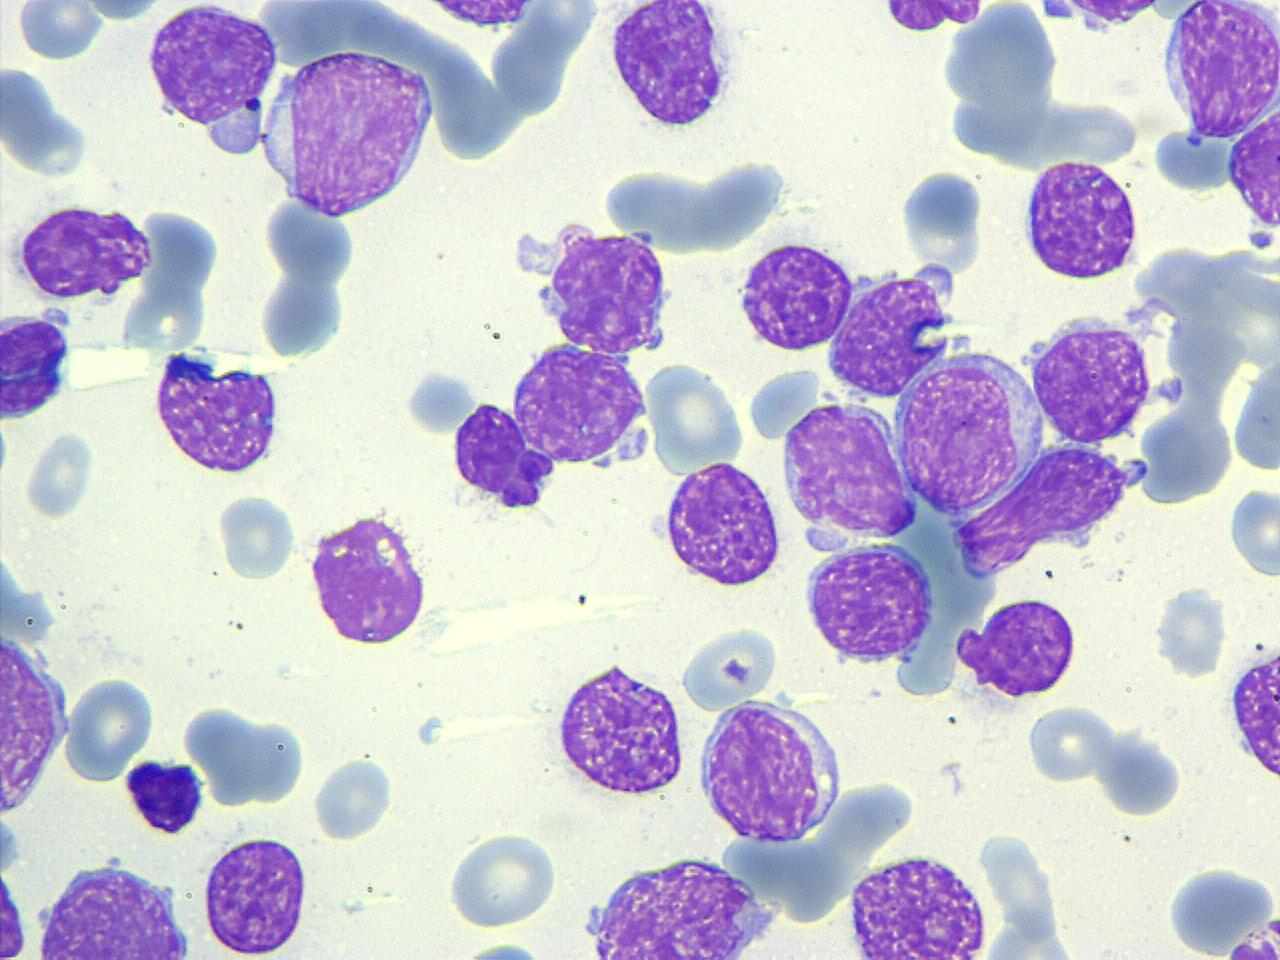Platelets: (442, 831, 562, 935), (898, 165, 986, 272), (256, 270, 349, 360), (1100, 724, 1184, 822), (215, 490, 301, 584), (22, 430, 99, 520), (12, 2, 106, 61), (398, 367, 476, 437), (1227, 480, 1280, 578), (0, 871, 31, 960), (459, 938, 546, 960), (0, 816, 21, 876), (414, 713, 446, 748), (1152, 375, 1186, 405), (1245, 225, 1277, 254), (1037, 1, 1079, 22), (582, 902, 606, 937), (0, 422, 14, 478)
RBC: (443, 828, 563, 932), (645, 357, 749, 474), (0, 61, 96, 182), (63, 672, 155, 782), (678, 620, 784, 712), (1099, 726, 1183, 818), (1022, 702, 1111, 785), (240, 715, 306, 806), (14, 0, 103, 62), (1227, 484, 1279, 579), (74, 0, 166, 24)
WBC: (209, 0, 624, 196), (257, 42, 438, 222), (510, 211, 676, 364), (892, 348, 1040, 516), (692, 693, 850, 848), (778, 396, 920, 553), (938, 0, 1068, 169), (581, 852, 783, 960), (143, 1, 282, 154), (823, 258, 961, 400), (552, 659, 688, 802), (509, 338, 657, 468), (147, 344, 286, 480), (600, 1, 740, 135), (1027, 308, 1159, 448), (304, 508, 434, 650), (800, 538, 938, 670), (1157, 0, 1280, 141), (27, 859, 195, 959), (660, 457, 786, 589), (842, 850, 993, 960), (1018, 154, 1143, 285), (7, 196, 154, 306), (0, 622, 74, 824), (200, 830, 314, 959), (954, 592, 1082, 706), (734, 237, 856, 355), (444, 828, 558, 936), (451, 399, 557, 513), (0, 58, 94, 182), (1163, 861, 1279, 959), (65, 668, 157, 786), (899, 161, 986, 275), (0, 308, 78, 422), (1225, 88, 1279, 241), (1225, 638, 1280, 786), (310, 752, 399, 844), (1153, 582, 1231, 680), (1228, 340, 1280, 480), (123, 756, 208, 836), (389, 0, 563, 33), (868, 0, 1002, 34)
